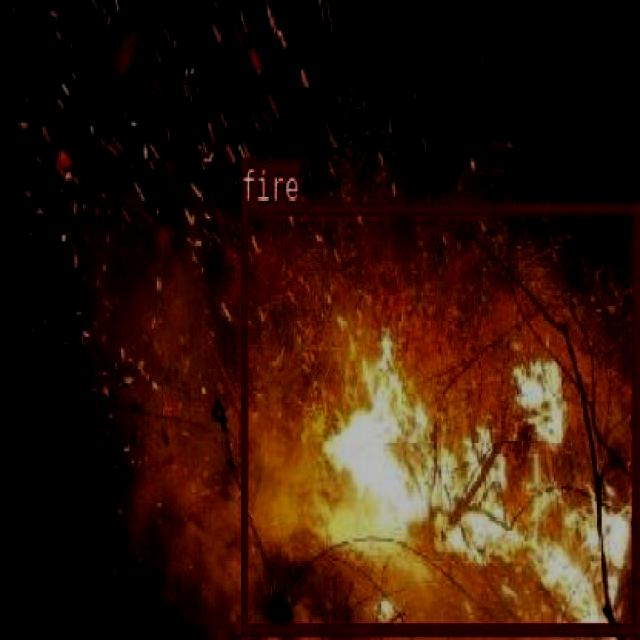fire: (239, 203, 638, 632)
